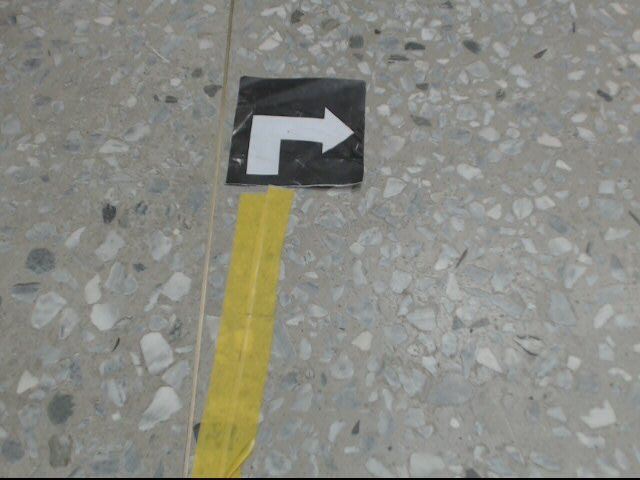right: (226, 74, 368, 189)
